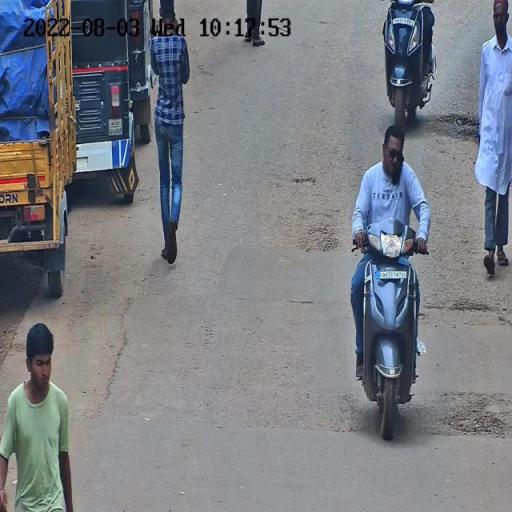using mobile: (386, 148, 408, 186)
